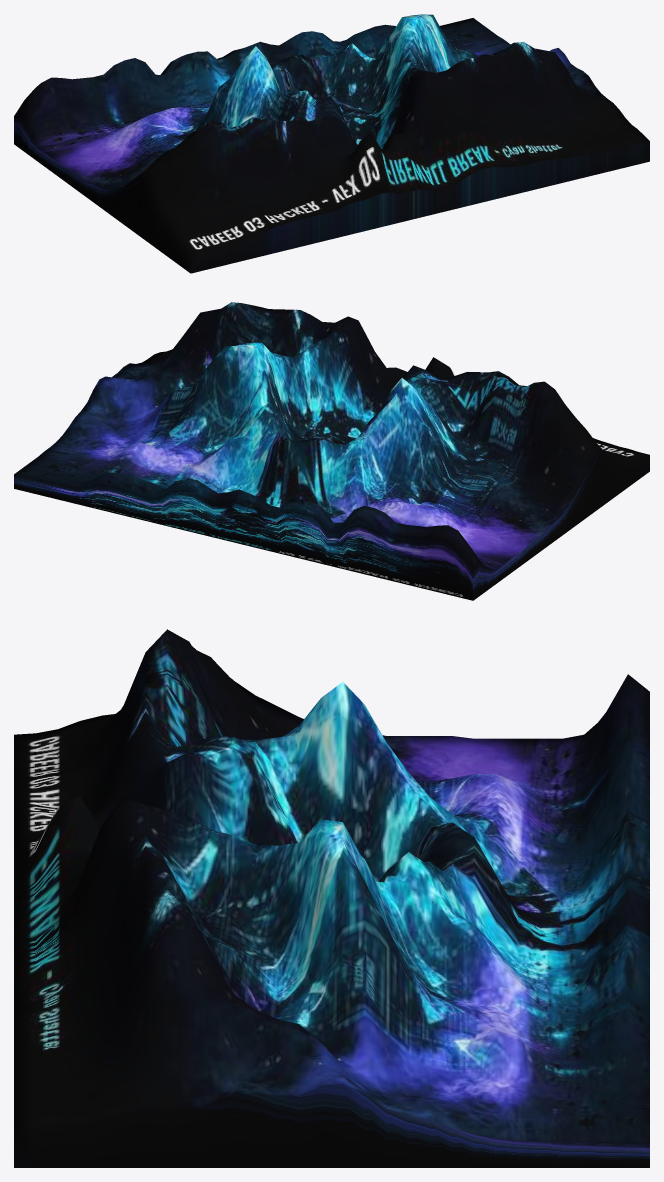
Rendered from CAREER_03_VFX_02_Firewall.glb.
3 renders of one model, top to bottom at view 1: azimuth 30°, elevation 25°; view 2: azimuth 150°, elevation 25°; view 3: azimuth 270°, elevation 25°, orthographic. The views are drawn at different scales.
Parts seen in each view (by area): view 1: CAREER_03_VFX_02_Firewall; view 2: CAREER_03_VFX_02_Firewall; view 3: CAREER_03_VFX_02_Firewall.
Boxes of the visible parts, left/top/right/bottom form: CAREER_03_VFX_02_Firewall: left=14, top=14, right=649, bottom=273; CAREER_03_VFX_02_Firewall: left=14, top=302, right=649, bottom=600; CAREER_03_VFX_02_Firewall: left=14, top=629, right=649, bottom=1167.
Size of the model in its own units: 2 by 0.51 by 1.33.
1 material, 1 textured.
